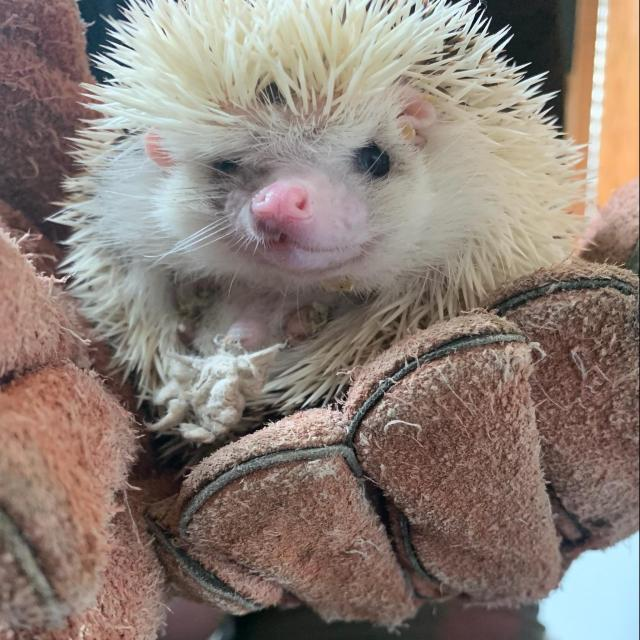Hedgehog: (62, 0, 616, 447)
